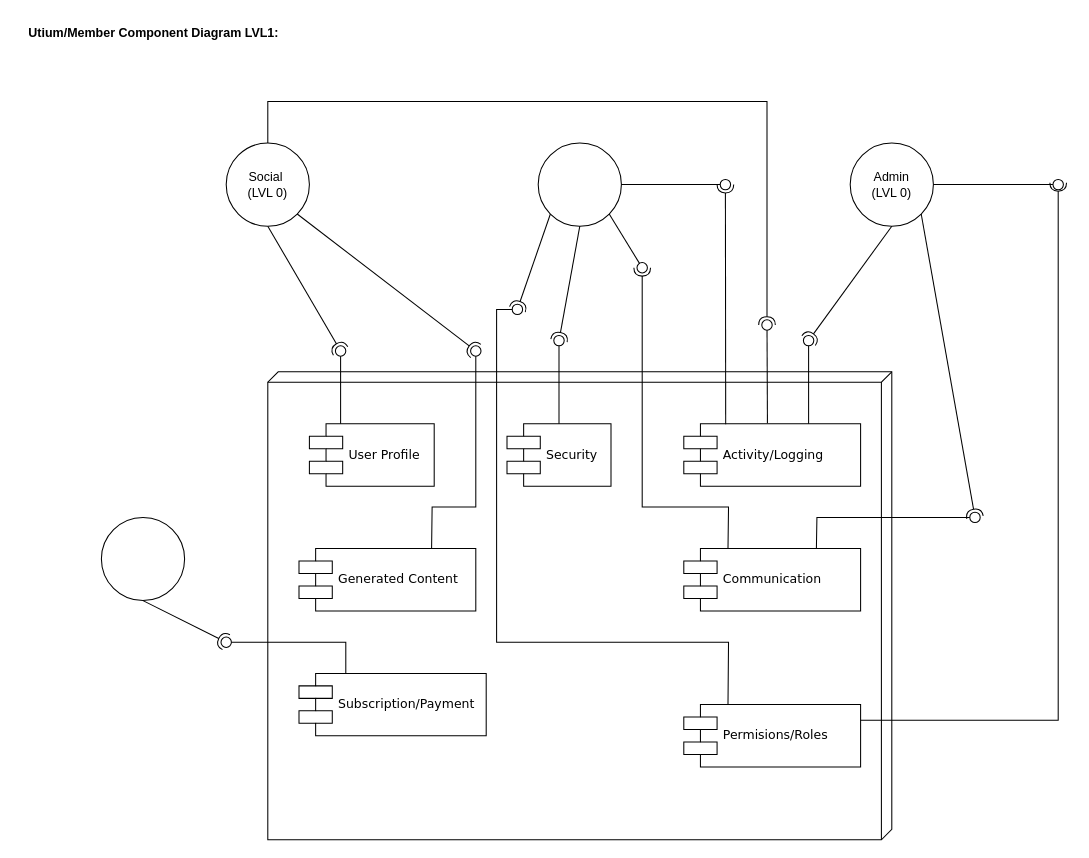
This 1089x858 diagram has some shape labels left out. Each missing label, with the box of its shape:
Account: (267, 371, 892, 840)
Interface/ Authentication (LVL 1): (537, 142, 621, 226)
Store/ Order Pross. (LVL 1): (100, 516, 185, 601)
